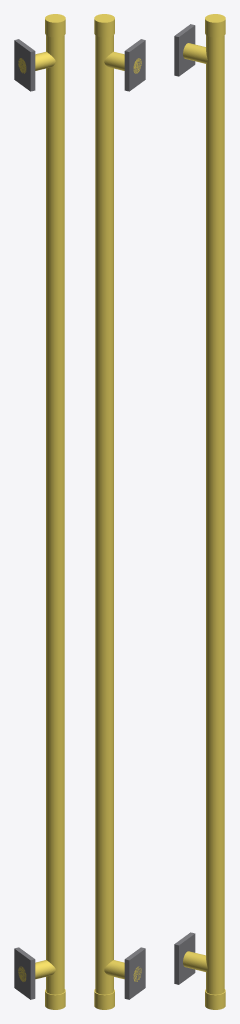
File: struct03_ladder_handrail_handrail_2.glb
The picture shows the model from 3 angles, left to right: view 1: azimuth 30°, elevation 25°; view 2: azimuth 150°, elevation 25°; view 3: azimuth 330°, elevation 25°; orthographic projection.
Parts seen in each view (by area): view 1: handrail, mount_pads, standoffs; view 2: handrail, mount_pads, standoffs; view 3: handrail, mount_pads, standoffs.
Boxes of the visible parts, x1,y1,x2,y2 form: handrail: [45, 14, 65, 1009]; mount_pads: [14, 39, 35, 999]; standoffs: [18, 51, 55, 981]; handrail: [94, 14, 114, 1009]; mount_pads: [124, 39, 145, 999]; standoffs: [104, 51, 141, 981]; handrail: [205, 14, 225, 1009]; mount_pads: [174, 24, 195, 984]; standoffs: [183, 43, 207, 971].
Bounding box in the file's own units: 0.089 × 2 × 0.06.
